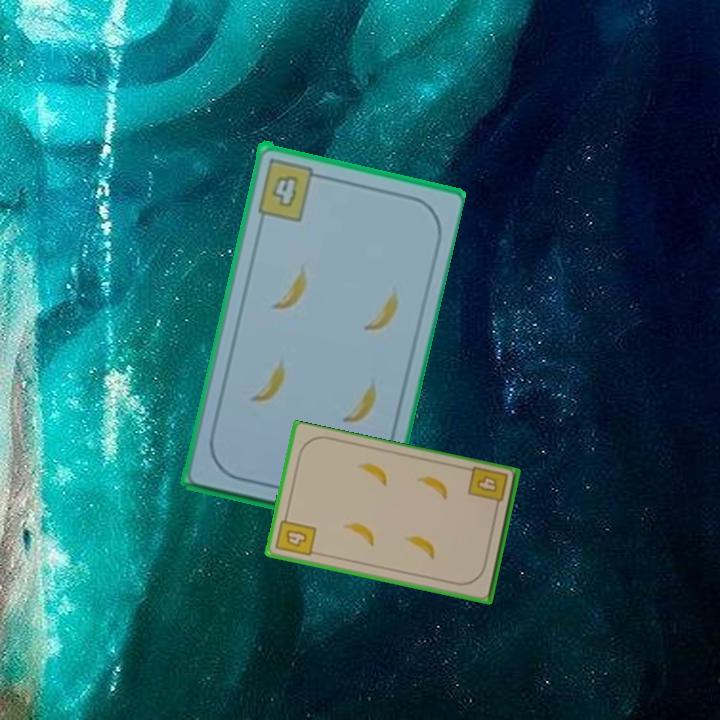4b: (254, 154, 325, 223), (464, 464, 511, 514), (272, 511, 319, 559)
